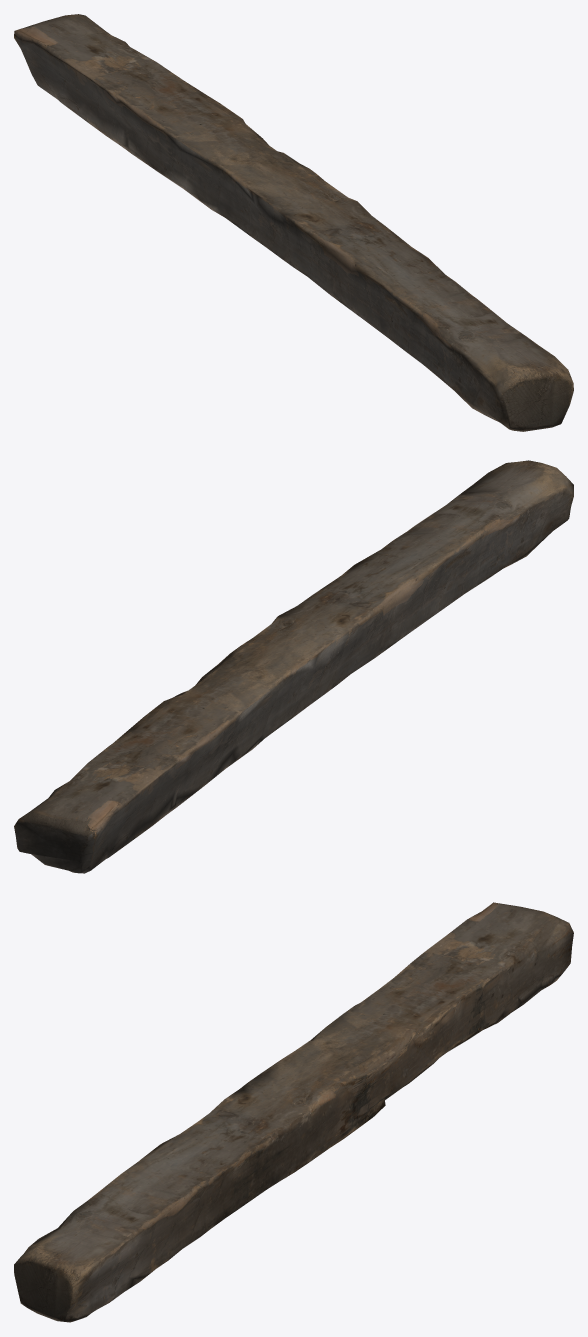
The model's file is Wooden_plank_v1_LOD1.fbx.
3 views of the same model, one above another, from view 1: azimuth 30°, elevation 25°; view 2: azimuth 150°, elevation 25°; view 3: azimuth 330°, elevation 25° (orthographic).
Parts seen in each view (by area): view 1: Wooden_plnaksv1_LOD1; view 2: Wooden_plnaksv1_LOD1; view 3: Wooden_plnaksv1_LOD1.
Part boxes in pixels (x1,y1,x2,y2): Wooden_plnaksv1_LOD1: (14,14,573,431); Wooden_plnaksv1_LOD1: (14,460,573,873); Wooden_plnaksv1_LOD1: (14,902,573,1322).
Size of the model in its own units: 9.32 by 7.16 by 98.2.
